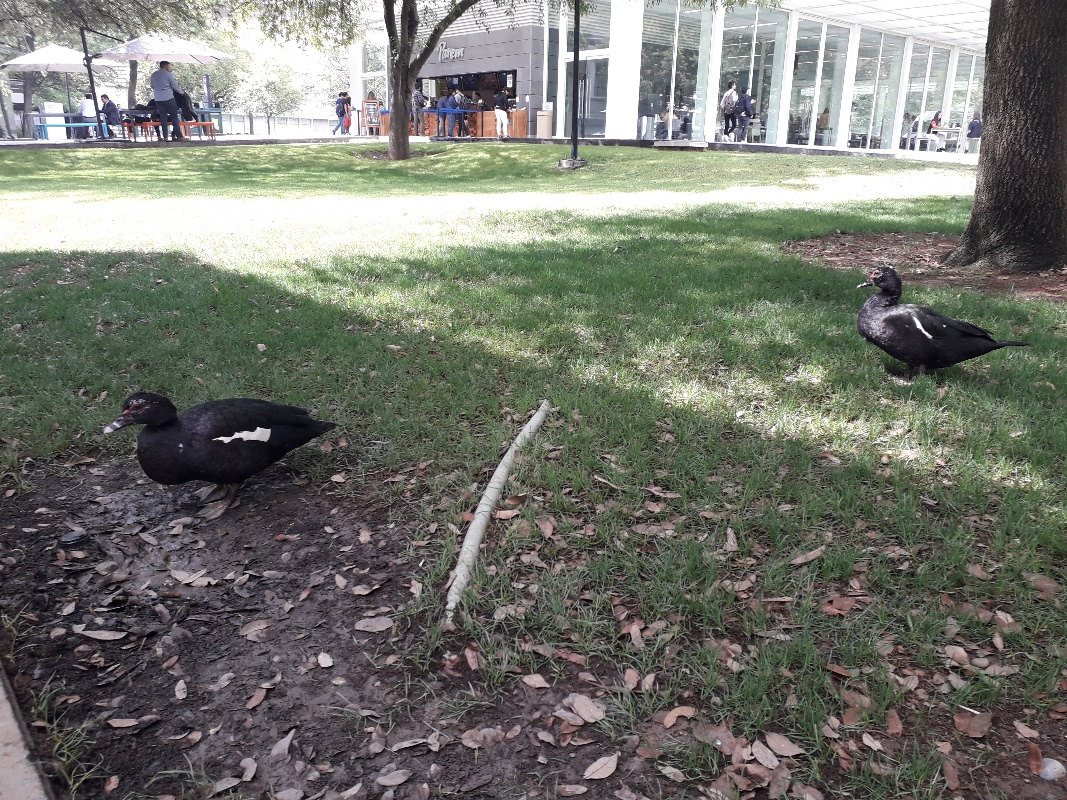pato: (114, 385, 343, 497), (841, 244, 988, 400)
